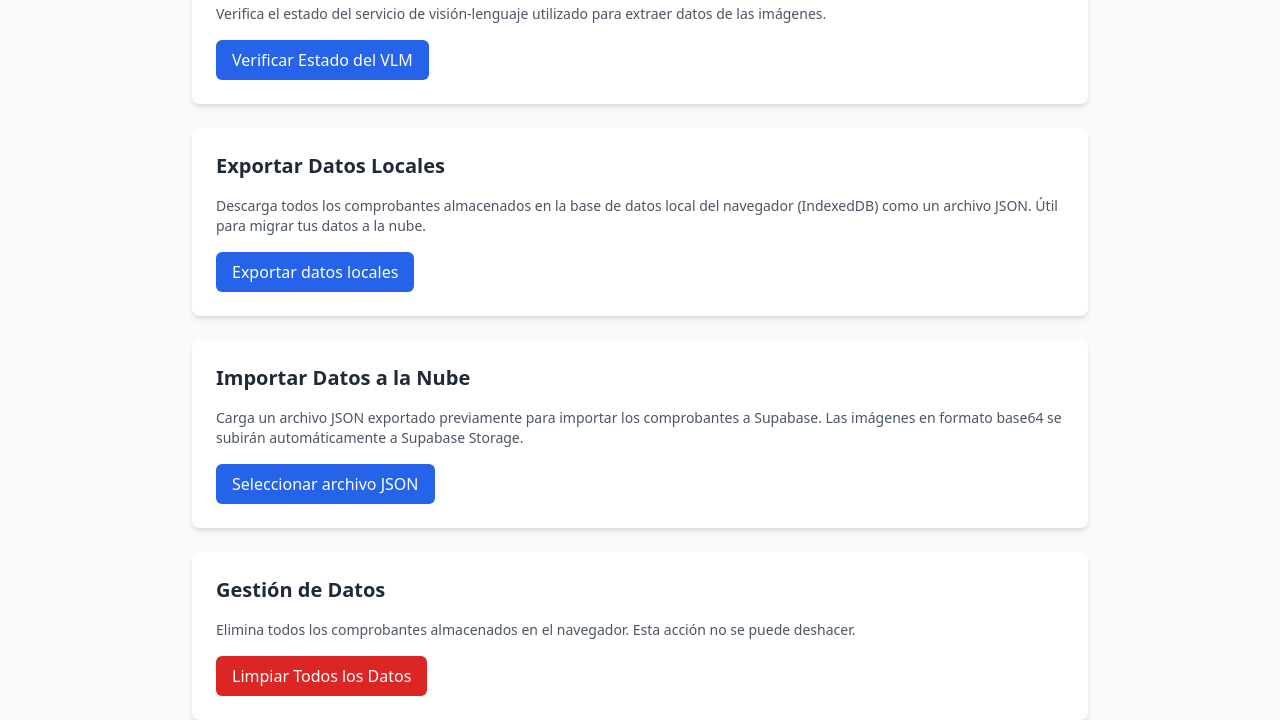
Test: SettingsPage › clears all data when confirmed
(page scrolled)
Open modal
Click the button "Limpiar Todos los Datos": [322, 676] box left=216, top=656, right=427, bottom=696
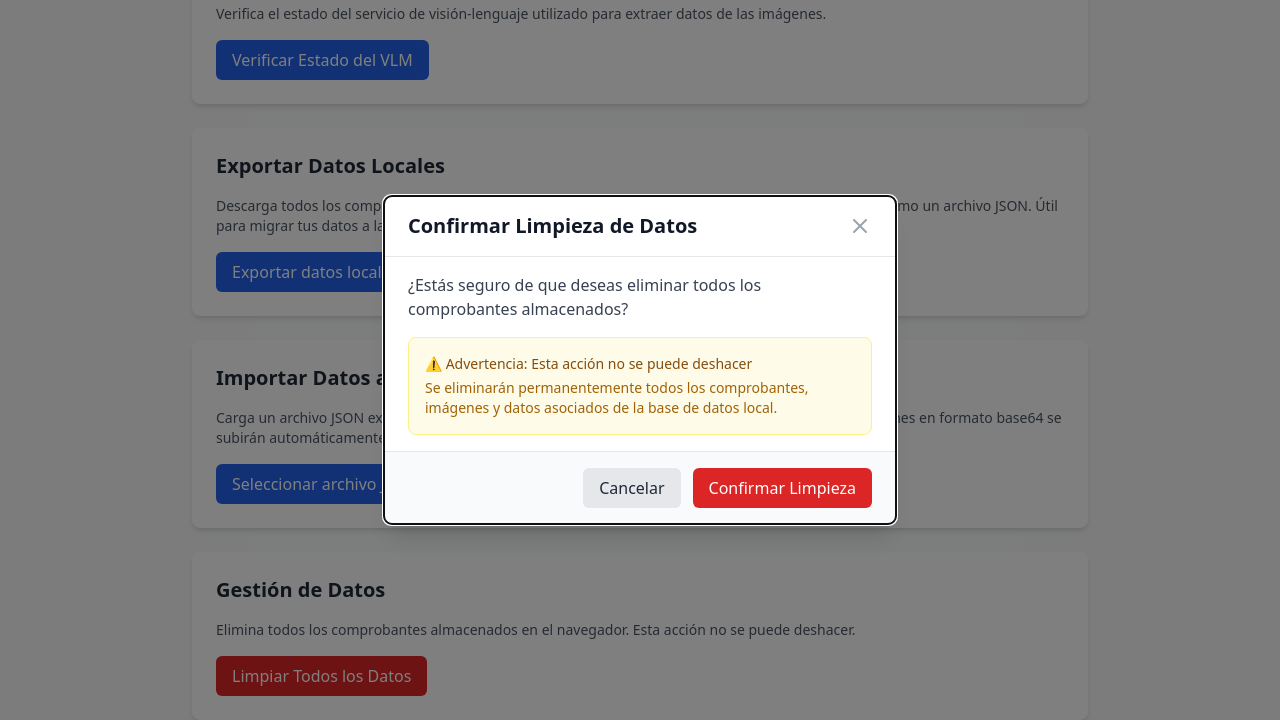
Confirm deletion
Click the button "Confirmar Limpieza": [782, 488] box left=693, top=468, right=872, bottom=508
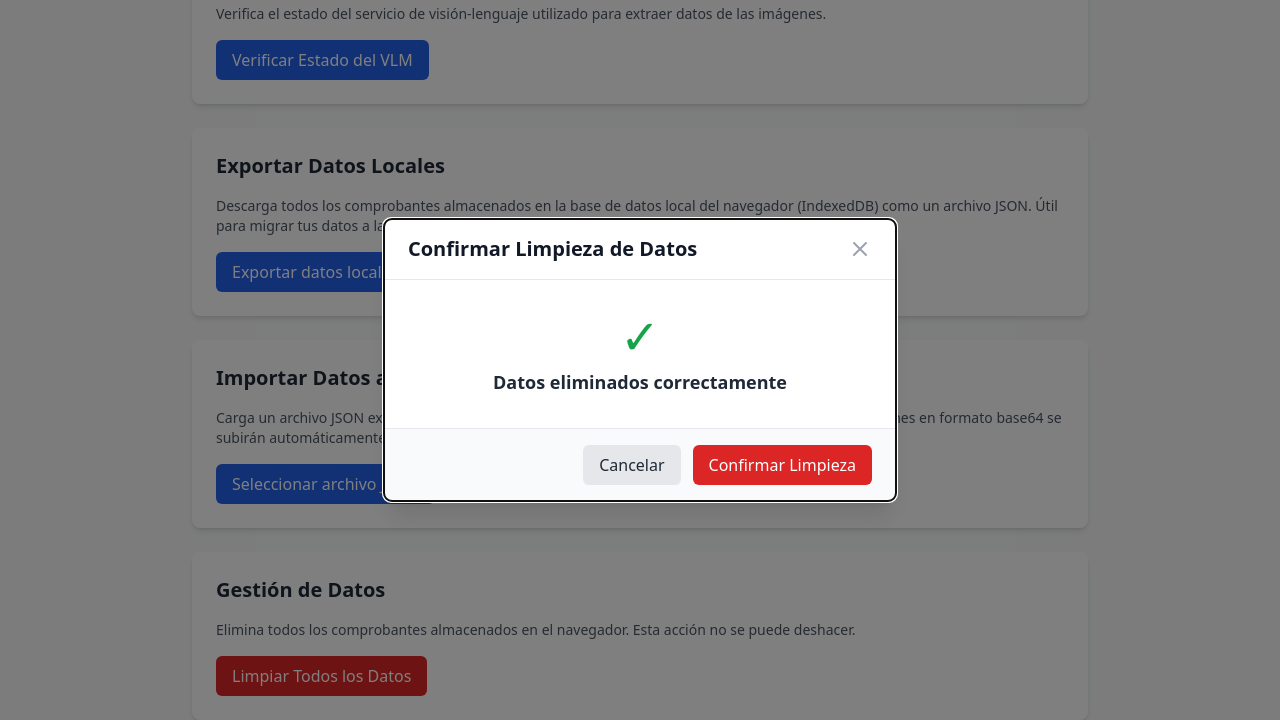
Now the text "Datos eliminados correctamente" is shown, box left=493, top=370, right=787, bottom=394
